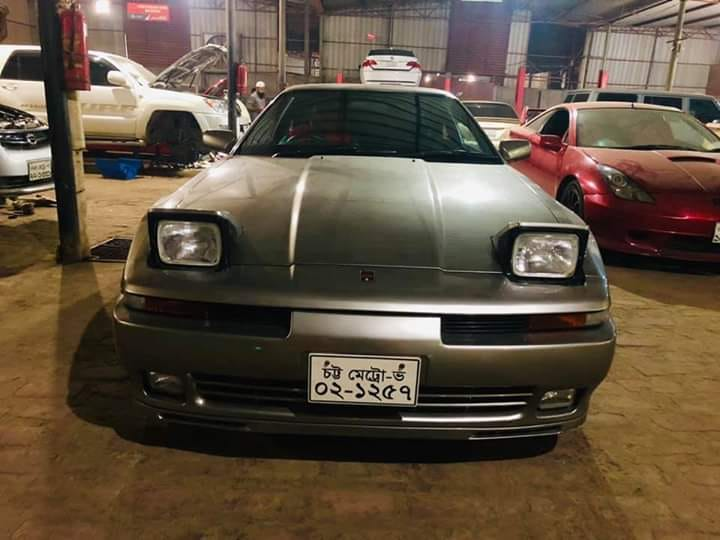registration_plate: (307, 352, 421, 408)
